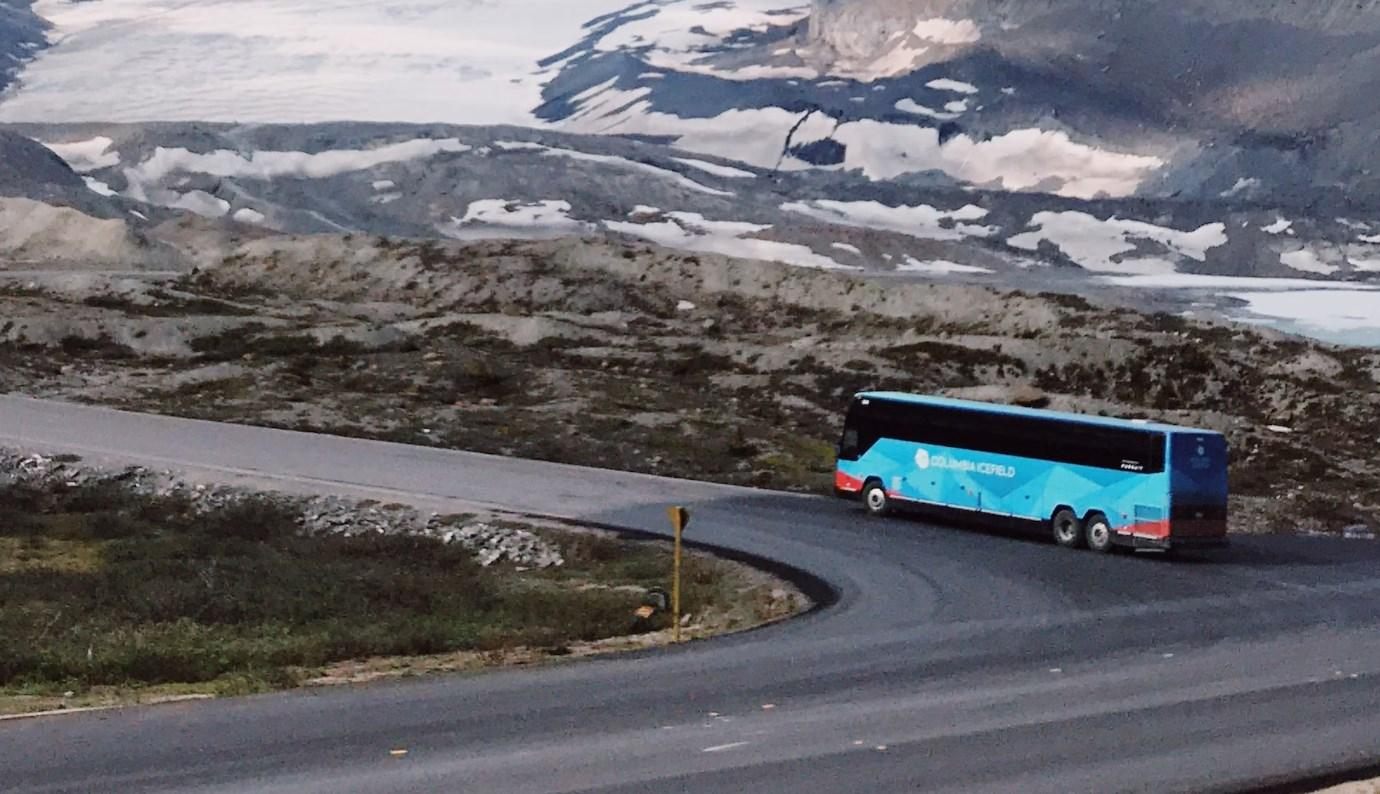vehicle: (835, 390, 1228, 555)
